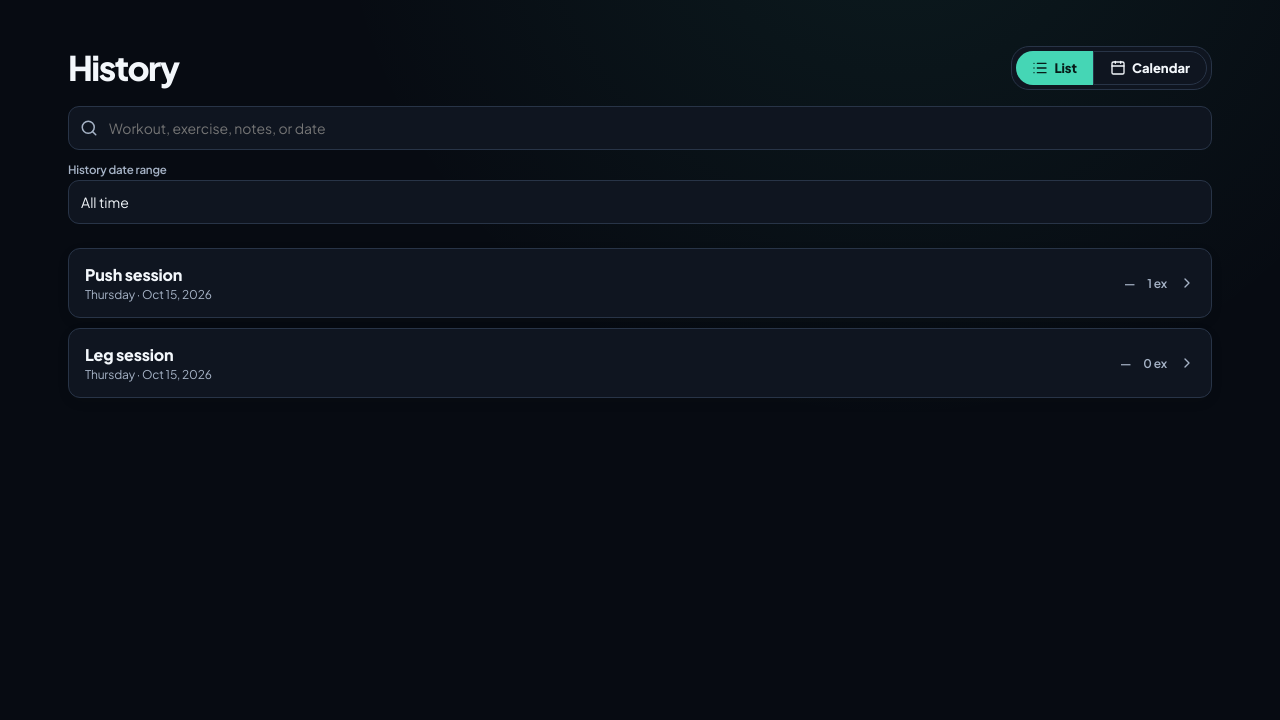
it: workout history › uses the same search in the calendar and selected day
Type "bench" into the search field at [640, 128], box [68,106,1212,150]
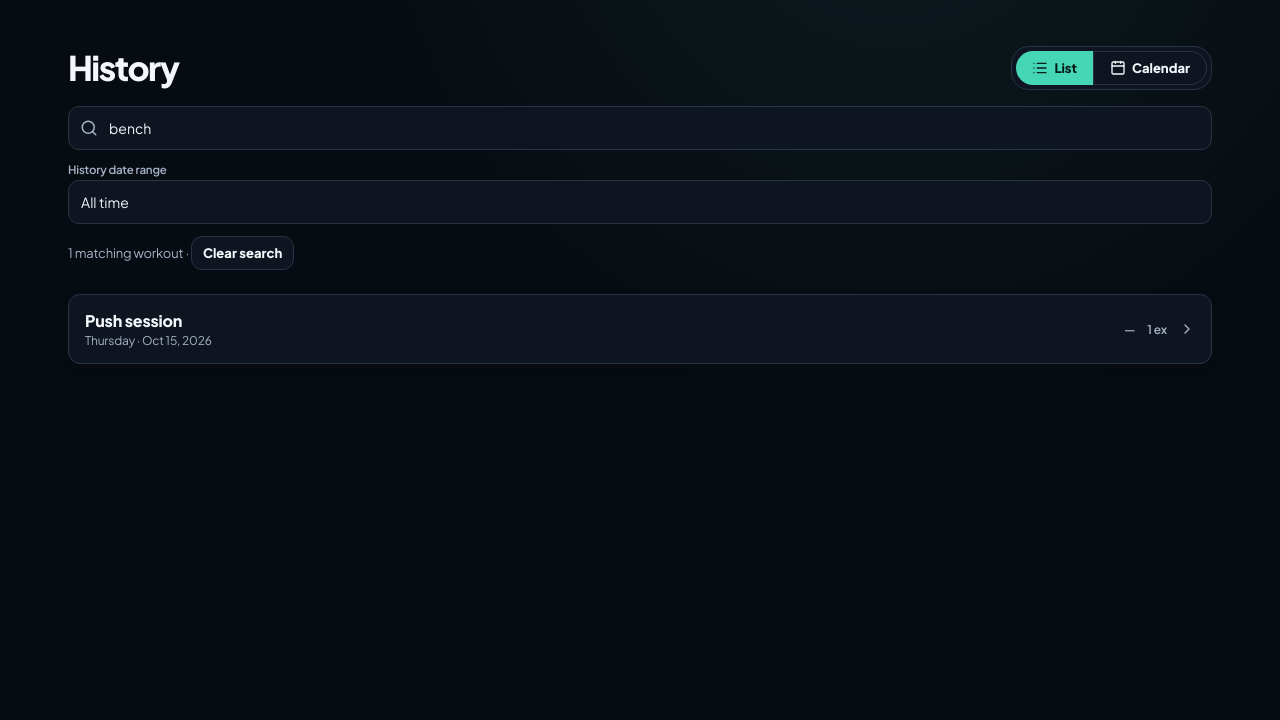
Click the button "Calendar" at [1150, 68], box [1093,51,1207,85]
(page scrolled)
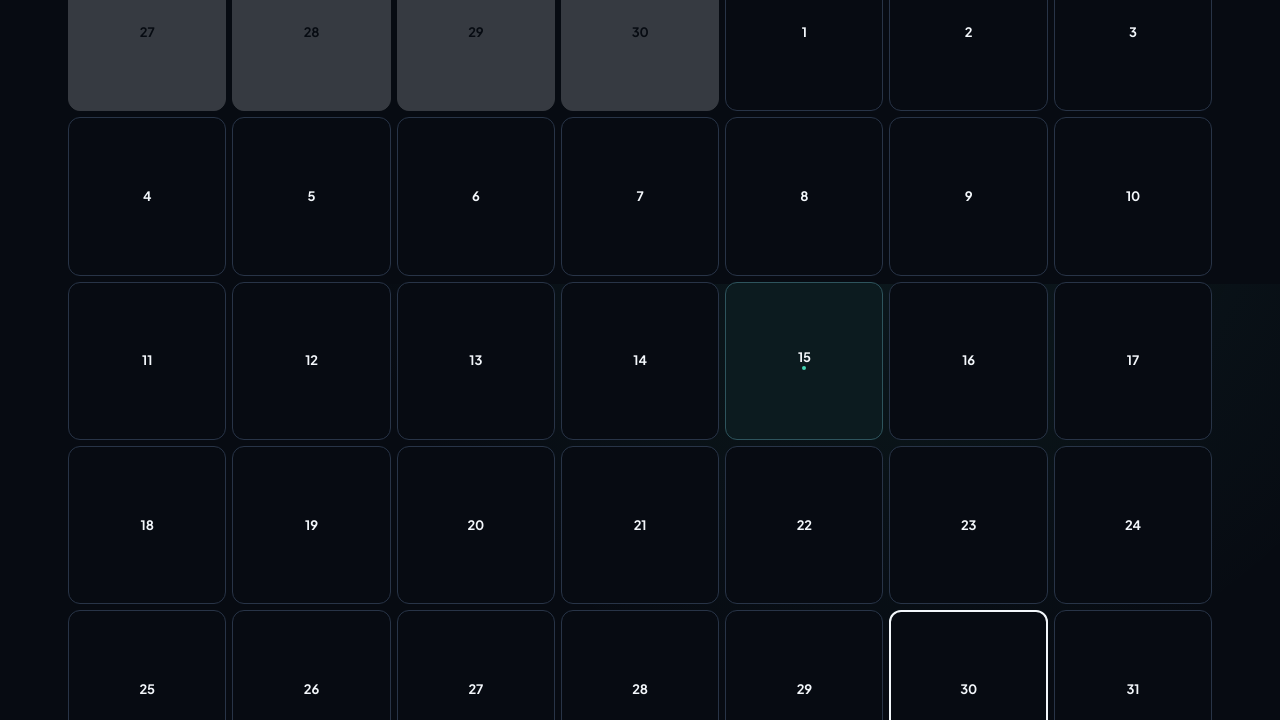
Click the element with class "cal-has-log" at [804, 361], box [725,282,884,440]
(page scrolled)
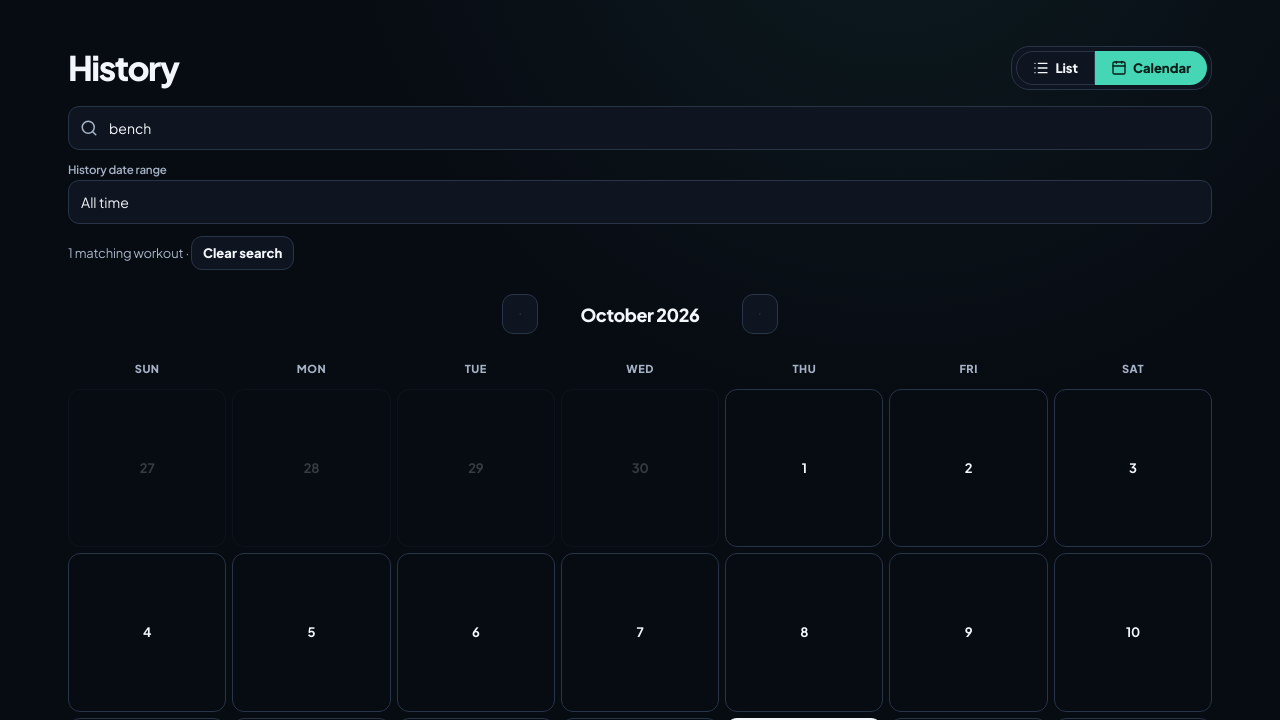
Expected: the text "Leg session" is not shown
Replace the text in the search field with "missing" at [640, 128], box [68,106,1212,150]
(page scrolled)
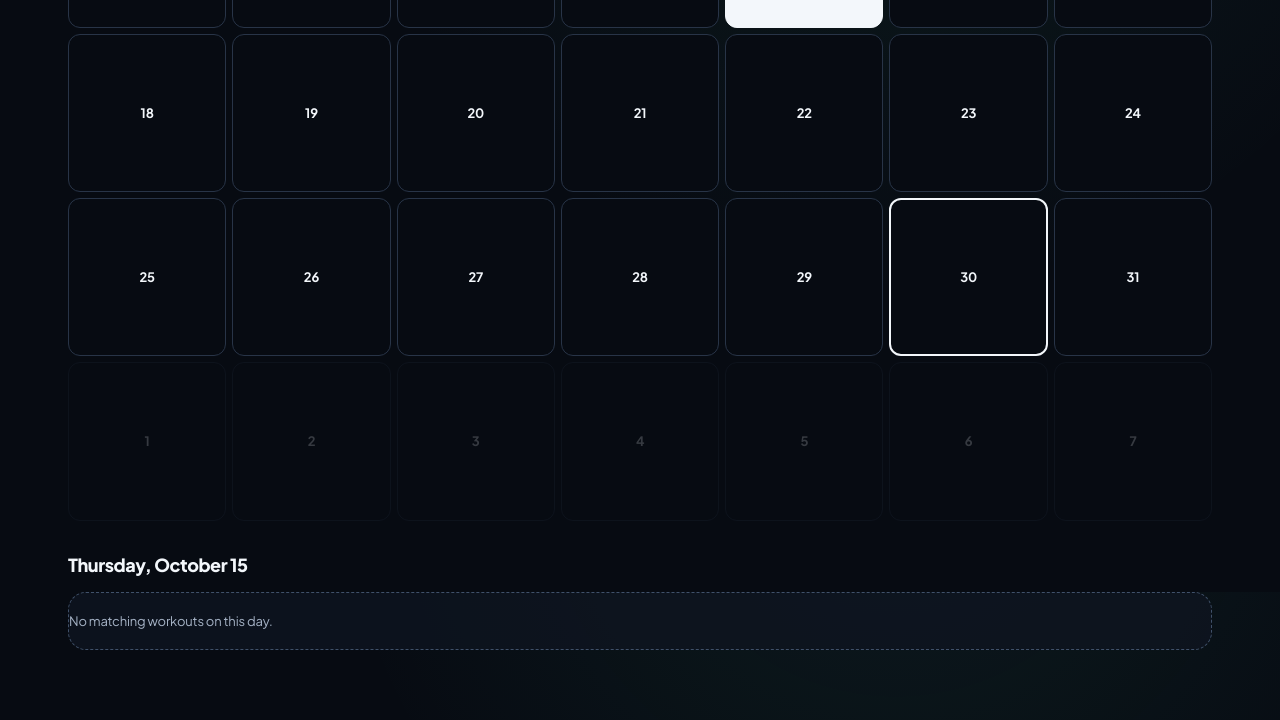
Expected: the text "No matching workouts on this day." is shown, [69,613,272,629]
